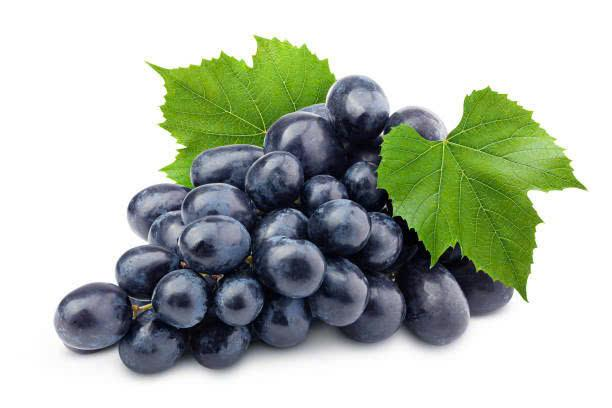grape: (53, 64, 531, 362)
